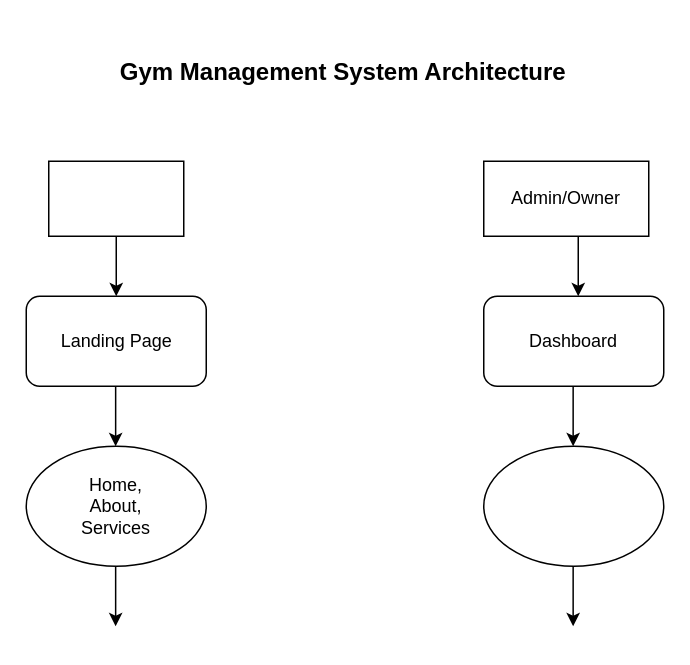
Image size: 690x665. Some labels were removed from this diagram. Each missing label, with the centre of its shape:
Analytics: the point at 573,505
User/Member: the point at 115,198
